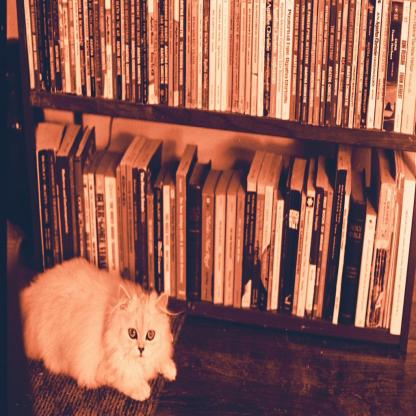book: (364, 143, 392, 325), (34, 112, 65, 272), (281, 156, 312, 307), (390, 166, 416, 335), (53, 116, 84, 257), (71, 124, 101, 258), (251, 148, 277, 302), (325, 143, 347, 317), (339, 170, 363, 325), (332, 153, 353, 326), (247, 149, 269, 304), (262, 154, 284, 308), (141, 139, 164, 285), (177, 140, 198, 298), (311, 152, 331, 314), (118, 129, 139, 280), (223, 165, 244, 308), (189, 158, 210, 300), (388, 155, 406, 318), (213, 167, 235, 298), (353, 201, 375, 327), (202, 164, 222, 300), (126, 128, 143, 280), (298, 174, 316, 309), (318, 186, 335, 316), (345, 0, 361, 129), (269, 164, 283, 308), (313, 0, 328, 127), (281, 0, 296, 121), (360, 0, 374, 129), (390, 0, 403, 134), (290, 0, 304, 121), (104, 151, 118, 271), (404, 0, 416, 133), (303, 0, 315, 124), (256, 0, 268, 117), (30, 0, 44, 92), (263, 0, 274, 116), (83, 169, 97, 260), (328, 0, 338, 126), (96, 153, 106, 278), (154, 168, 164, 292), (338, 0, 348, 124), (90, 153, 101, 265), (168, 176, 178, 294), (374, 0, 383, 129), (219, 0, 229, 115), (192, 0, 202, 109), (36, 0, 47, 99), (199, 0, 209, 107), (238, 0, 247, 118), (247, 0, 256, 117), (229, 0, 238, 115), (55, 0, 66, 92), (145, 184, 154, 293), (169, 0, 178, 108), (153, 0, 162, 107), (273, 0, 281, 120), (127, 0, 136, 103), (66, 0, 76, 92), (237, 177, 244, 306), (101, 0, 110, 99), (82, 0, 91, 98), (24, 0, 33, 95), (120, 0, 128, 100), (75, 0, 83, 99), (210, 0, 217, 107), (187, 0, 193, 110), (162, 0, 168, 107), (147, 0, 153, 106), (112, 2, 118, 101), (94, 0, 100, 98), (50, 0, 56, 96), (139, 0, 144, 106), (162, 176, 166, 293), (182, 0, 186, 109), (386, 0, 388, 133)
